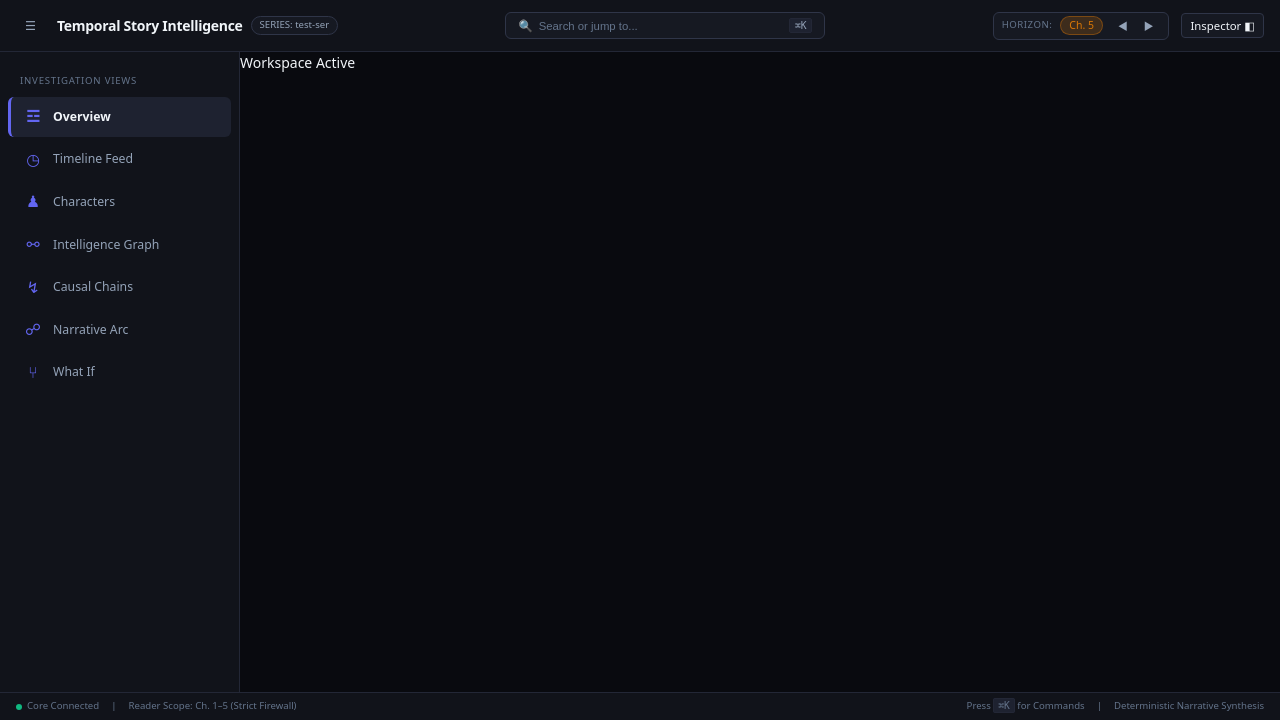
it: Application Shell & Navigation UX (Phase 6.2) › opens CommandPalette modal via Ctrl+K and executes navigation
Trigger open via command bar search button
Click the button with aria-label "Open Command Search". click: (588, 26)
box: [506,12,826,39]
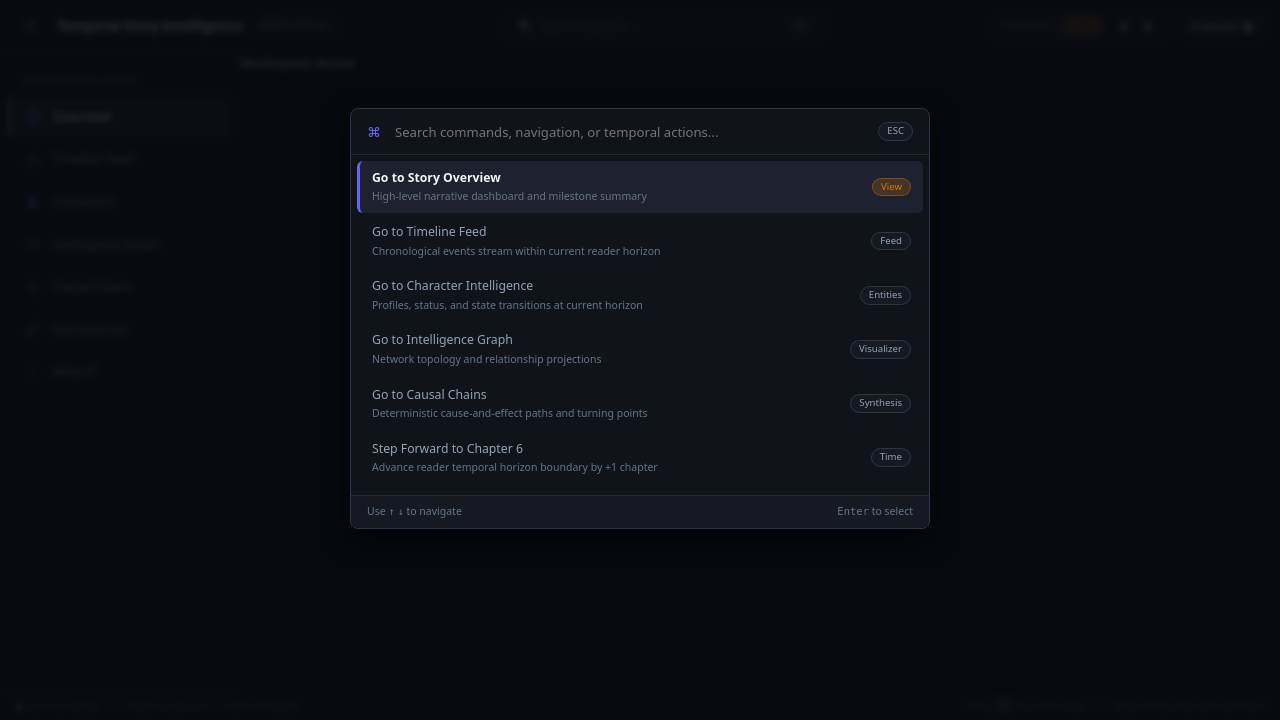
Expected: the dialog is shown
Expected: the dropdown with placeholder "Search commands, navigation, or temporal actions..." is shown
Filter by 'timeline'
Type "timeline" into the dropdown with placeholder "Search commands, navigation, or temporal actions...". click: (630, 132)
box: [393,122,866,142]
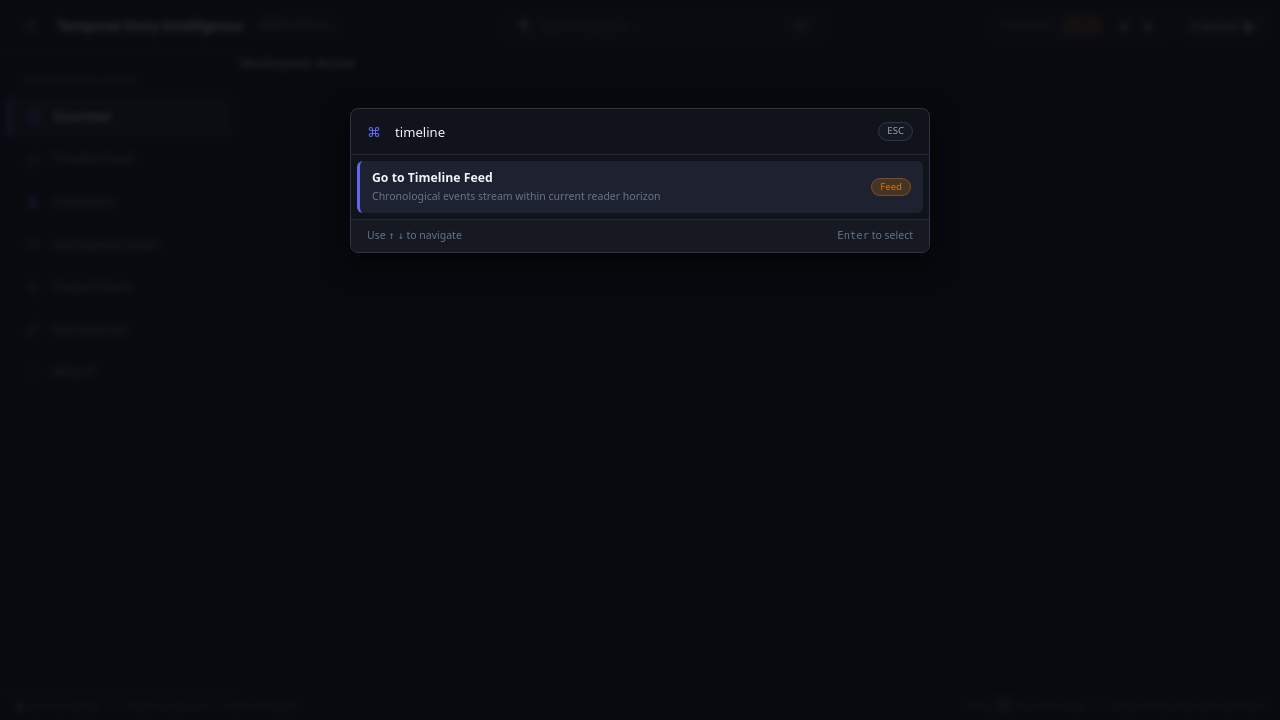
Expected: the text "Go to Timeline Feed" is shown
Click command item
Click the text "Go to Timeline Feed". click: (432, 178)
box: [372,169,493,186]
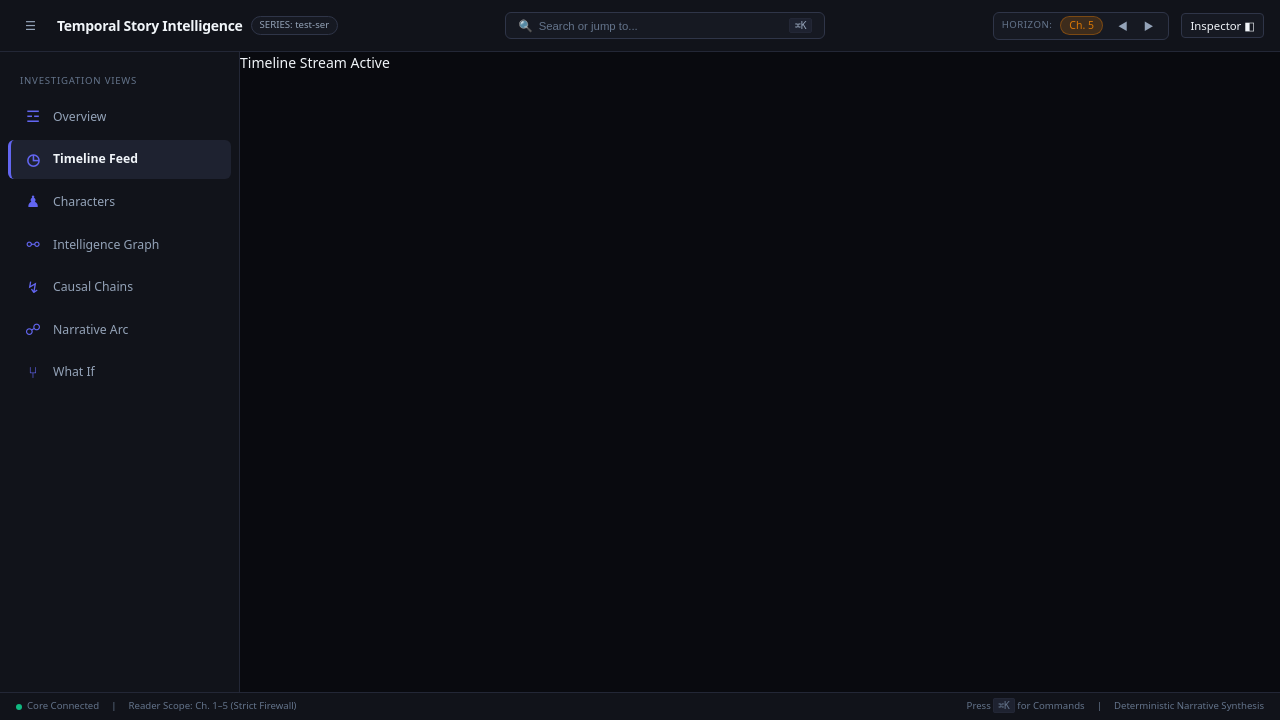
Expected: the dialog is gone
Expected: the text "Timeline Stream Active" is shown, [240,53,390,72]
